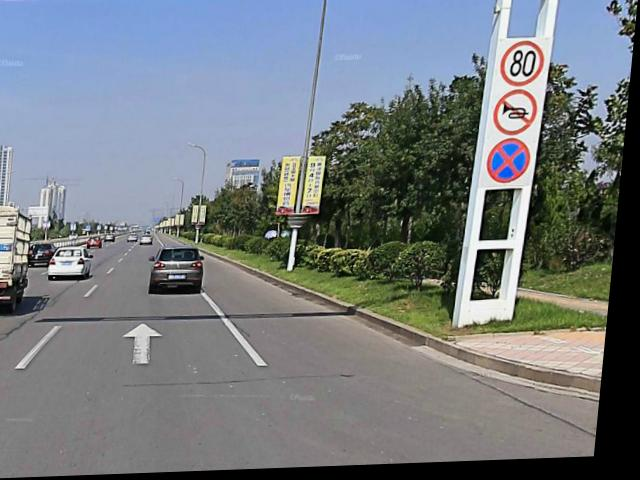limit80: (501, 42, 549, 91)
